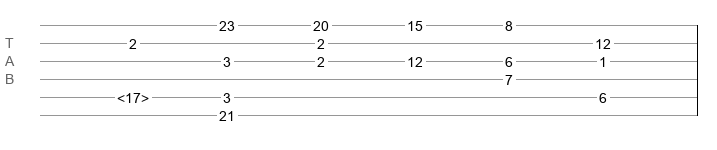1: (599, 54, 607, 64)
12: (407, 54, 423, 64), (595, 36, 611, 46)
15: (407, 18, 423, 28)
2: (129, 36, 137, 46), (317, 54, 325, 64), (317, 36, 325, 46)
20: (313, 18, 329, 28)
21: (219, 108, 235, 118)
23: (219, 18, 235, 28)
3: (223, 54, 231, 64), (223, 90, 231, 100)
6: (505, 54, 513, 64), (599, 90, 607, 100)
7: (505, 72, 513, 82)
8: (505, 18, 513, 28)
harmonic: (117, 90, 149, 100)
